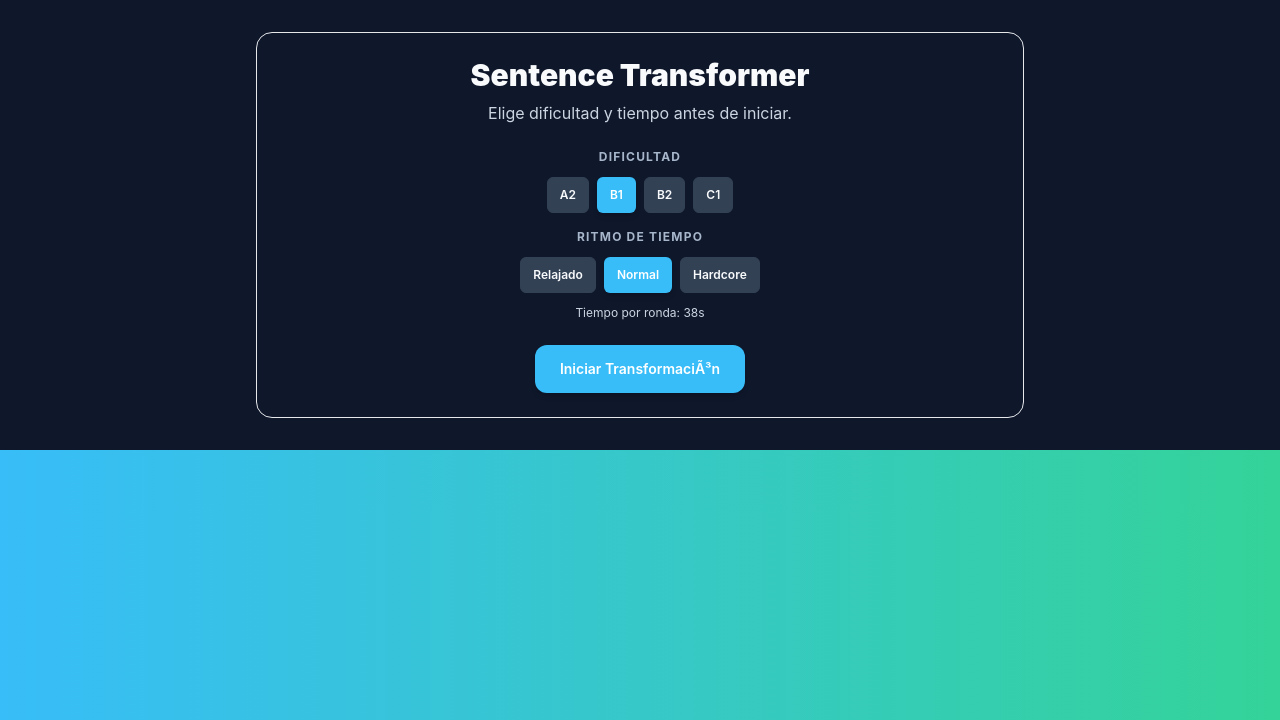
SentenceTransformerView › accepts correct transformed sentence
Click the button "Iniciar TransformaciÃ³n" at x=640, y=369, box [535,345,745,393]
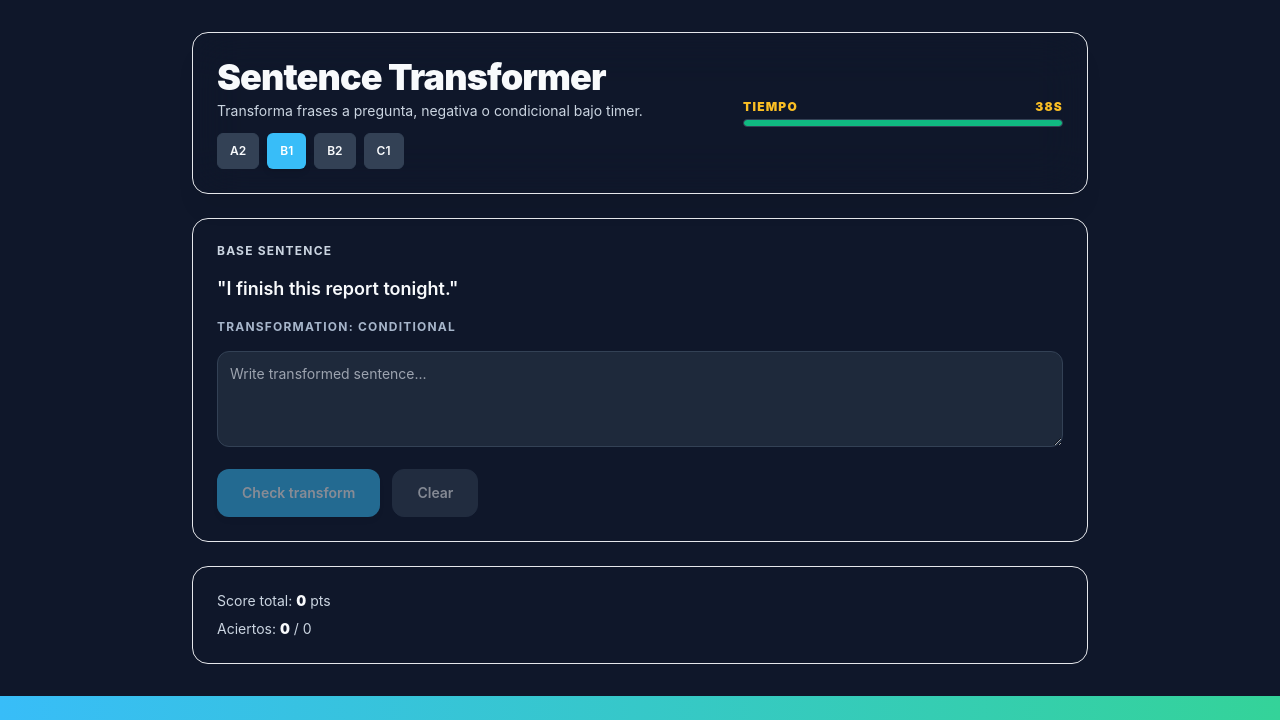
Type "If I finish this report tonight I will send it tomorrow." into the text box named "Transformer answer" at x=640, y=399, box [217,351,1063,447]
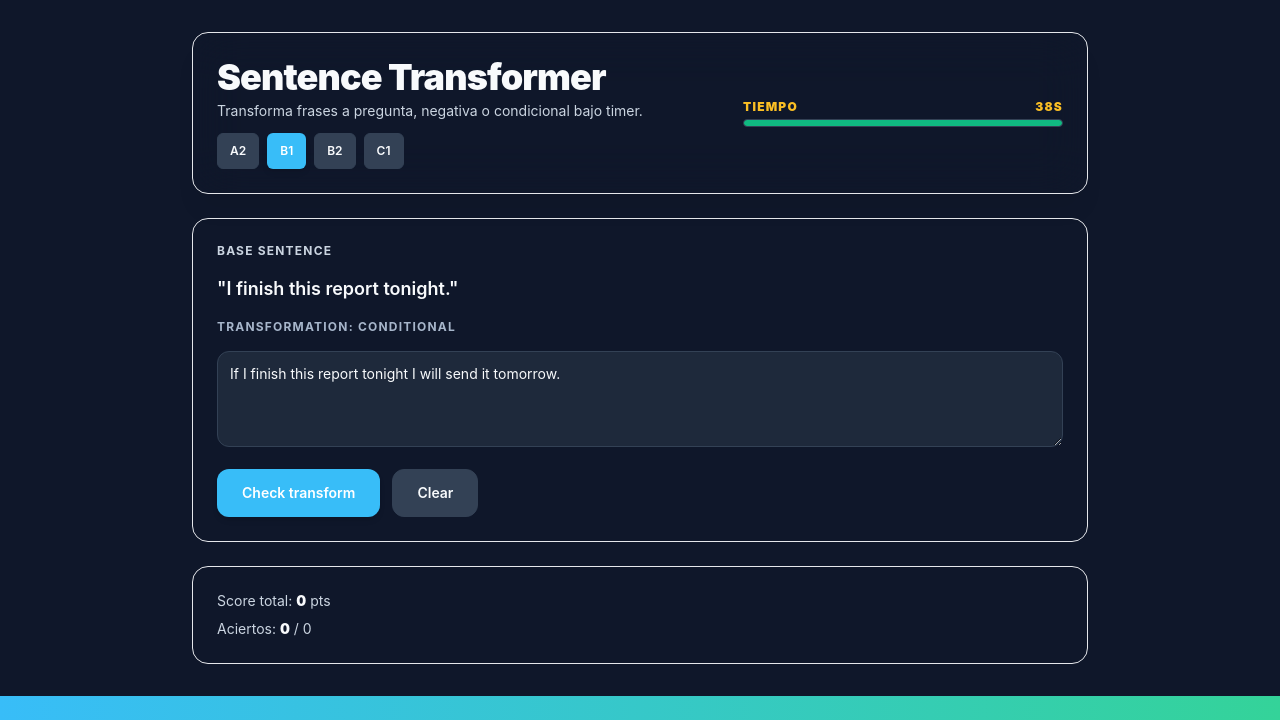
Click the button "Check transform" at x=299, y=493, box [217,469,380,517]
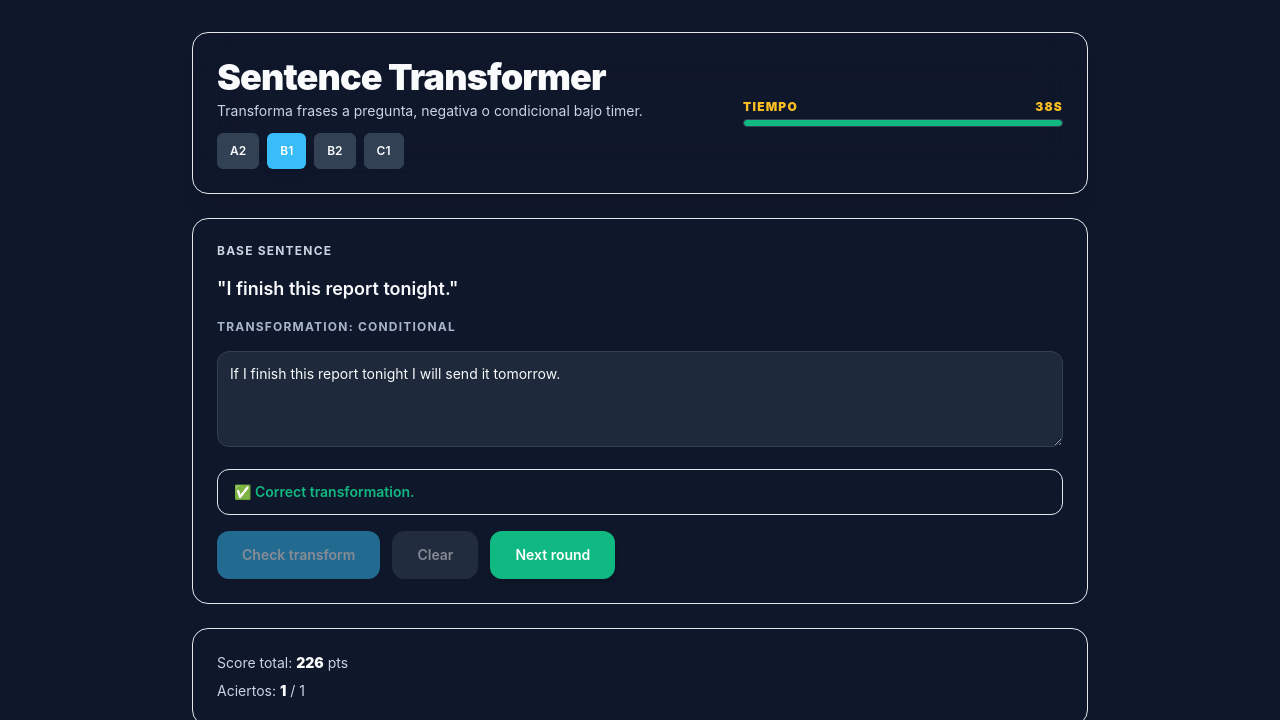
Expected: the text "✅ Correct transformation." is shown, [217,469,1063,515]
